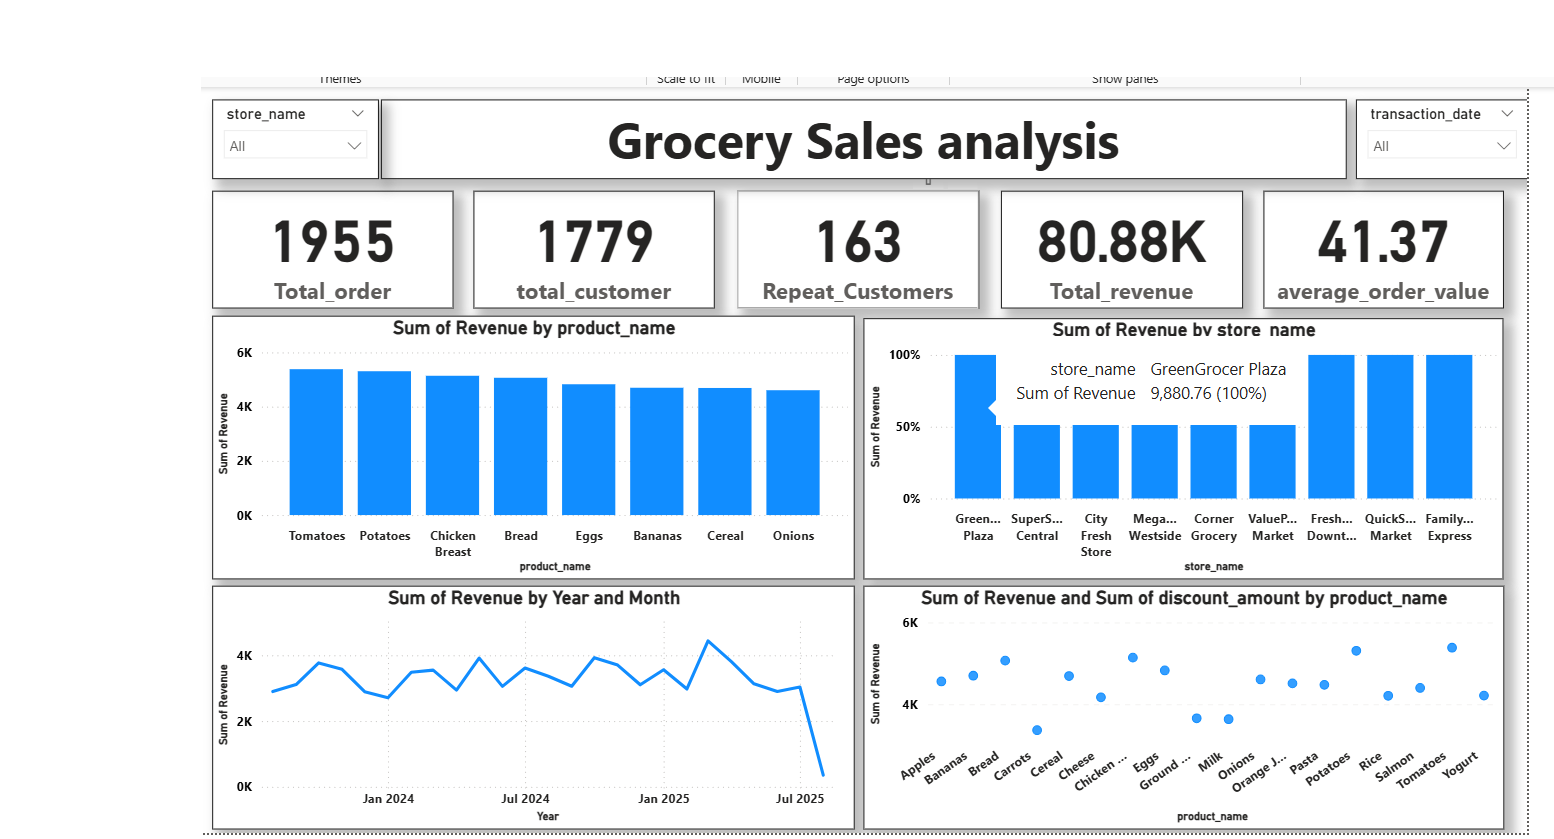

This screenshot's page, from the dashboard's own definition file:
{"tool":"powerbi","page":{"name":"Page 1","canvas":[1280,720],"ordinal":0},"visuals":[{"type":"card","fields":{"Values":["Grocery_Data.Total_order"]},"box":[10.9,100.1,232.8,113.4],"z":0},{"type":"card","fields":{"Values":["Grocery_Data.total_custome"]},"box":[263,100.1,232.8,113.4],"z":1000},{"type":"card","fields":{"Values":["Grocery_Data.Repeat_Customers"]},"box":[517.3,100.2,233.3,113.9],"z":2000},{"type":"card","fields":{"Values":["Grocery_Data.Total_revenue"]},"box":[772.6,100.2,233.3,113.9],"z":3000},{"type":"card","fields":{"Values":["Grocery_Data.average_order_value"]},"box":[1025,100.2,231.9,113.9],"z":4000},{"type":"textbox","box":[174.3,12.3,931.7,76.8],"z":5000},{"type":"columnChart","fields":{"Category":["Grocery_Data.product_name"],"Y":["Sum(Grocery_Data.Revenue)"]},"box":[10.9,220.8,620.1,254.6],"z":6000},{"type":"hundredPercentStackedColumnChart","fields":{"Category":["Grocery_Data.store_name"],"Y":["Sum(Grocery_Data.Revenue)"]},"box":[639.4,223.2,617.7,252.1],"z":7000},{"type":"lineChart","fields":{"Y":["Sum(Grocery_Data.Revenue)"],"Category":["Grocery_Data.transaction_date.Variation.Date Hierarchy.Year","Grocery_Data.transaction_date.Variation.Date Hierarchy.Month"]},"box":[10.9,481.4,620.1,235.3],"z":8000},{"type":"scatterChart","fields":{"X":["Grocery_Data.product_name"],"Y":["Sum(Grocery_Data.Revenue)"]},"box":[639,481,618,235],"z":9000},{"type":"slicer","fields":{"Values":["Grocery_Data.store_name"]},"box":[11,12.3,160.5,76.8],"z":10000},{"type":"slicer","fields":{"Values":["Grocery_Data.transaction_date"]},"box":[1114.2,12.3,166,76.8],"z":11000}]}

Visuals, with their boxes on the page's 1280x720 design canvas (x1, y1, x2, y2). These are canvas units, not pixel positions in the 1554x839 screenshot, which may show the page scaled, cropped or inside an application window:
card - Grocery_Data.Total_order: locate(11, 100, 244, 214)
card - Grocery_Data.total_custome: locate(263, 100, 496, 214)
card - Grocery_Data.Repeat_Customers: locate(517, 100, 751, 214)
card - Grocery_Data.Total_revenue: locate(773, 100, 1006, 214)
card - Grocery_Data.average_order_value: locate(1025, 100, 1257, 214)
textbox: locate(174, 12, 1106, 89)
columnChart - Grocery_Data.product_name x Sum(Grocery_Data.Revenue): locate(11, 221, 631, 475)
hundredPercentStackedColumnChart - Grocery_Data.store_name x Sum(Grocery_Data.Revenue): locate(639, 223, 1257, 475)
lineChart - Sum(Grocery_Data.Revenue) x Grocery_Data.transaction_date.Variation.Date Hierarchy.Year: locate(11, 481, 631, 717)
scatterChart - Grocery_Data.product_name x Sum(Grocery_Data.Revenue): locate(639, 481, 1257, 716)
slicer - Grocery_Data.store_name: locate(11, 12, 172, 89)
slicer - Grocery_Data.transaction_date: locate(1114, 12, 1280, 89)
